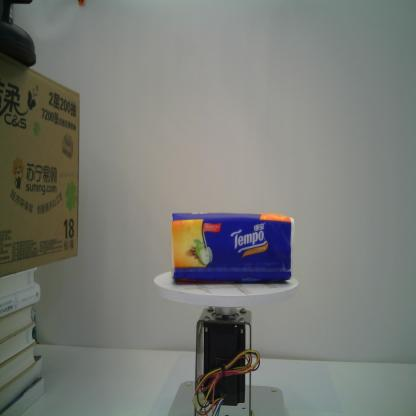Tissue: (169, 210, 296, 286)
